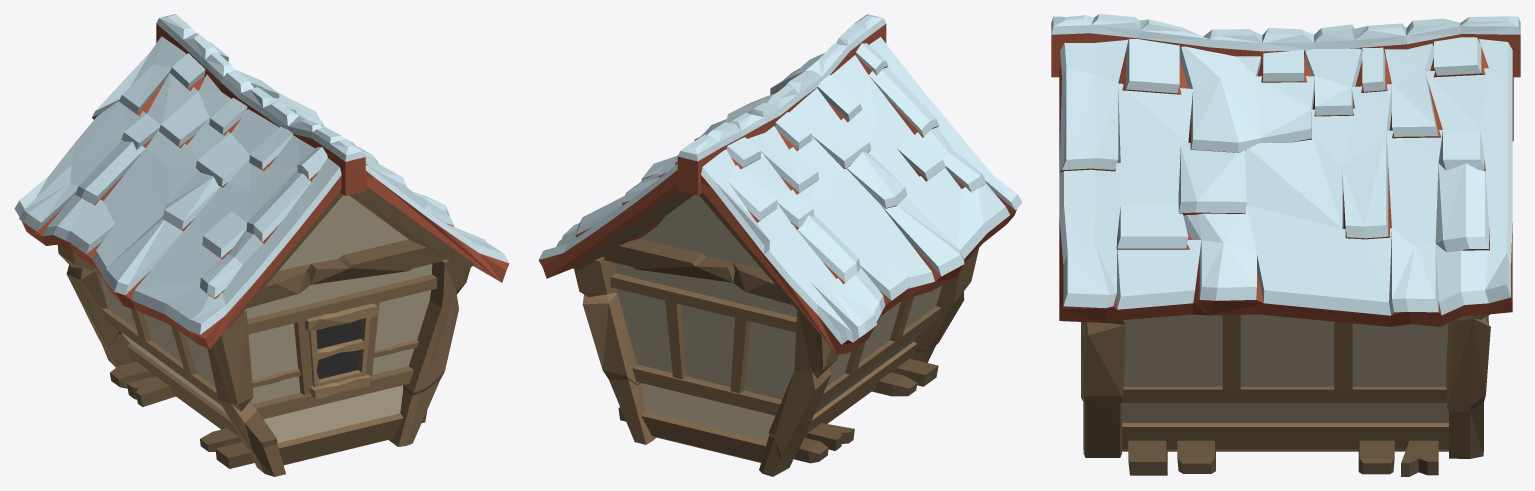
Rendered from SM_Bld_House_TopRoomSmall_05_Snow.gltf.
3 views of the same model, side by side, from view 1: azimuth 30°, elevation 25°; view 2: azimuth 150°, elevation 25°; view 3: azimuth 270°, elevation 25° (orthographic). The views are drawn at different scales.
Visible parts, largest first — view 1: SM_Bld_House_TopRoomSmall_05_Snow; view 2: SM_Bld_House_TopRoomSmall_05_Snow; view 3: SM_Bld_House_TopRoomSmall_05_Snow.
Part boxes in pixels (x1=…): SM_Bld_House_TopRoomSmall_05_Snow: x1=14, y1=14, x2=509, y2=476; SM_Bld_House_TopRoomSmall_05_Snow: x1=538, y1=14, x2=1022, y2=476; SM_Bld_House_TopRoomSmall_05_Snow: x1=1051, y1=14, x2=1520, y2=476.
Bounding box in the file's own units: 4.68 × 4.37 × 4.67.
1 material, 1 textured.
